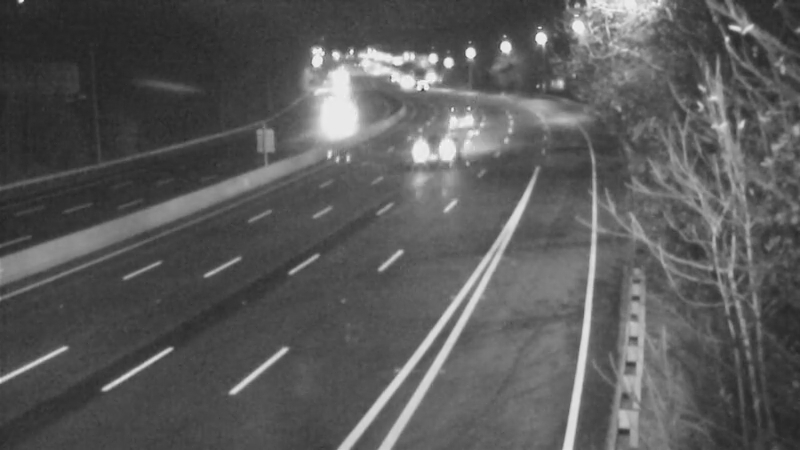vehicle: (395, 111, 475, 191), (399, 60, 449, 110), (437, 90, 487, 140), (317, 95, 367, 145)
